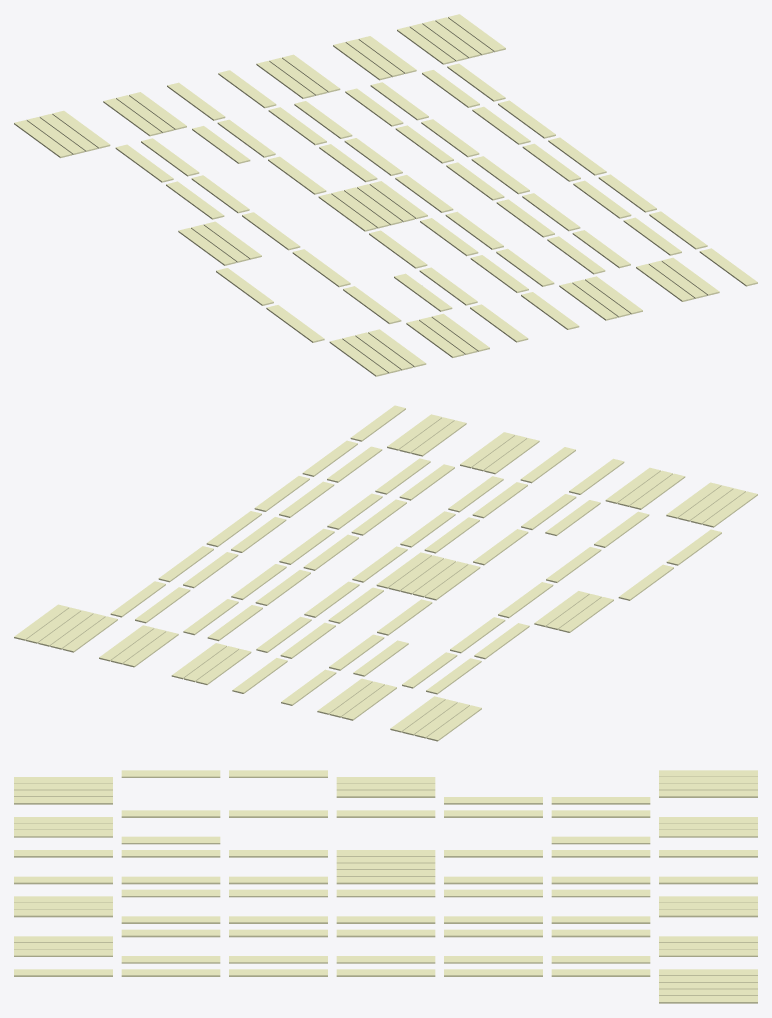
File: marking_school_text_white.glb
3 views of the same model, one above another, from view 1: azimuth 30°, elevation 25°; view 2: azimuth 150°, elevation 25°; view 3: azimuth 270°, elevation 25° (orthographic). The views are drawn at different scales.
Visible parts, largest first — view 1: school_74, school_10, school_34, school_44, school_57, school_66, school_00, school_18, school_19, school_21, school_23, school_25 (+76 smaller); view 2: school_82, school_09, school_29, school_34, school_41, school_54, school_61, school_64, school_65, school_77, school_80, school_00 (+76 smaller); view 3: school_19, school_24, school_31, school_38, school_42, school_48, school_52, school_56, school_64, school_68, school_72, school_29 (+76 smaller).
Part boxes in pixels (x1=…): school_74: x1=333, y1=42, x2=391, y2=80; school_10: x1=115, y1=144, x2=173, y2=182; school_34: x1=318, y1=193, x2=376, y2=231; school_44: x1=218, y1=70, x2=276, y2=108; school_57: x1=345, y1=88, x2=403, y2=126; school_66: x1=522, y1=193, x2=580, y2=231; school_00: x1=329, y1=338, x2=387, y2=376; school_18: x1=343, y1=286, x2=401, y2=324; school_19: x1=394, y1=273, x2=452, y2=311; school_21: x1=242, y1=212, x2=300, y2=250; school_23: x1=141, y1=138, x2=199, y2=176; school_25: x1=103, y1=98, x2=161, y2=136; school_82: x1=110, y1=581, x2=165, y2=617; school_09: x1=474, y1=623, x2=529, y2=659; school_29: x1=520, y1=447, x2=575, y2=483; school_34: x1=425, y1=564, x2=480, y2=600; school_41: x1=329, y1=634, x2=384, y2=670; school_54: x1=304, y1=581, x2=359, y2=617; school_61: x1=411, y1=420, x2=466, y2=456; school_64: x1=375, y1=458, x2=430, y2=494; school_65: x1=327, y1=446, x2=382, y2=482; school_77: x1=350, y1=405, x2=405, y2=441; school_80: x1=206, y1=511, x2=261, y2=547; school_00: x1=702, y1=491, x2=757, y2=527; school_19: x1=121, y1=836, x2=220, y2=844; school_24: x1=551, y1=836, x2=650, y2=844; school_31: x1=121, y1=876, x2=220, y2=884; school_38: x1=336, y1=876, x2=435, y2=884; school_42: x1=551, y1=876, x2=650, y2=884; school_48: x1=121, y1=889, x2=220, y2=897; school_52: x1=336, y1=889, x2=435, y2=897; school_56: x1=551, y1=889, x2=650, y2=897; school_64: x1=121, y1=929, x2=220, y2=937; school_68: x1=336, y1=929, x2=435, y2=937; school_72: x1=551, y1=929, x2=650, y2=937; school_29: x1=14, y1=876, x2=112, y2=884.
Size of the model in its own units: 1.62 by 0.005 by 2.19.
